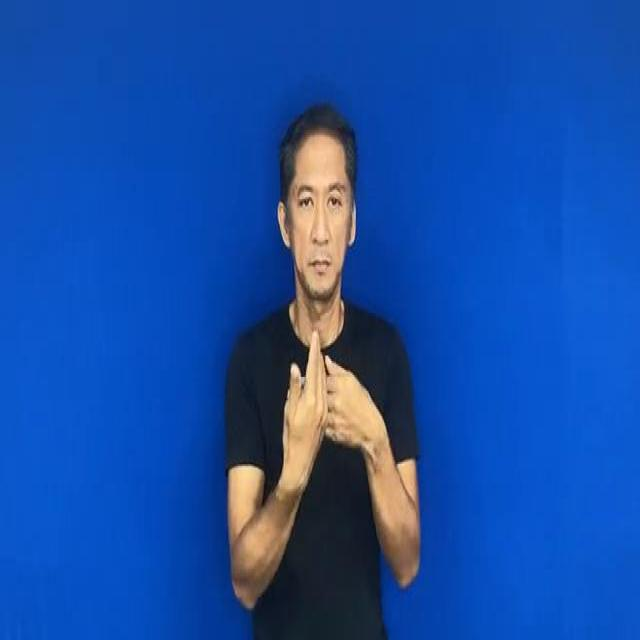bread: (262, 326, 390, 479)
